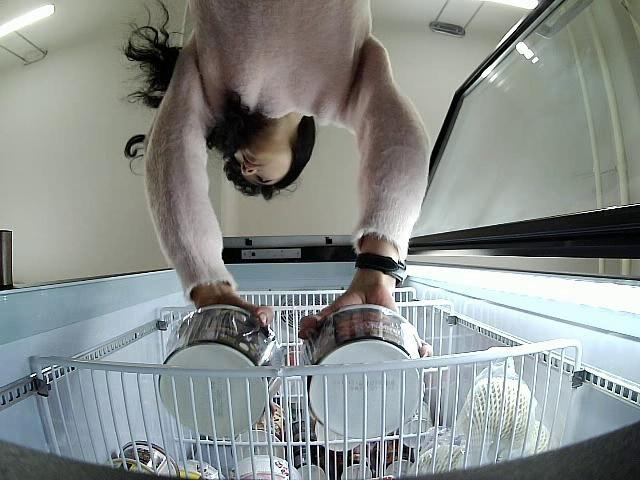07_buldak_L: (157, 306, 282, 438), (304, 305, 421, 434)
